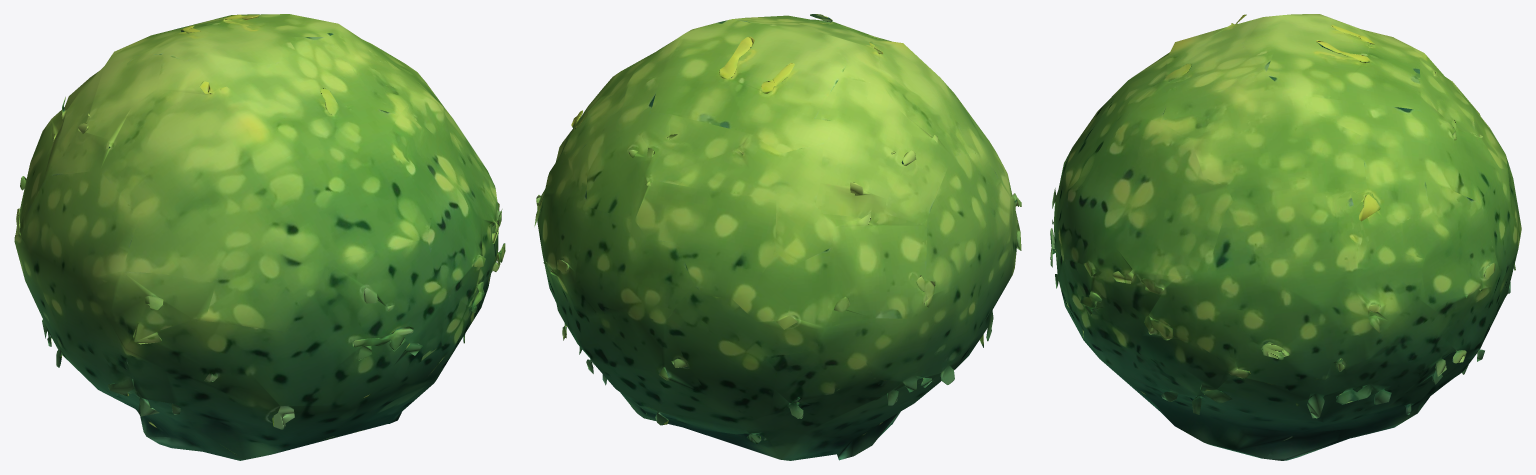
The model's file is bush_textured.glb.
The picture shows the model from 3 angles, left to right: view 1: azimuth 30°, elevation 25°; view 2: azimuth 150°, elevation 25°; view 3: azimuth 270°, elevation 25°; orthographic projection. The views are drawn at different scales.
Visible parts, largest first — view 1: temp_mesh.ply; view 2: temp_mesh.ply; view 3: temp_mesh.ply.
Boxes of the visible parts, x1,y1,x2,y2 form: temp_mesh.ply: (14,14,505,460); temp_mesh.ply: (534,14,1021,460); temp_mesh.ply: (1050,14,1521,460).
Bounding box in the file's own units: 1.88 × 1.71 × 1.93.
1 material, 1 textured.
